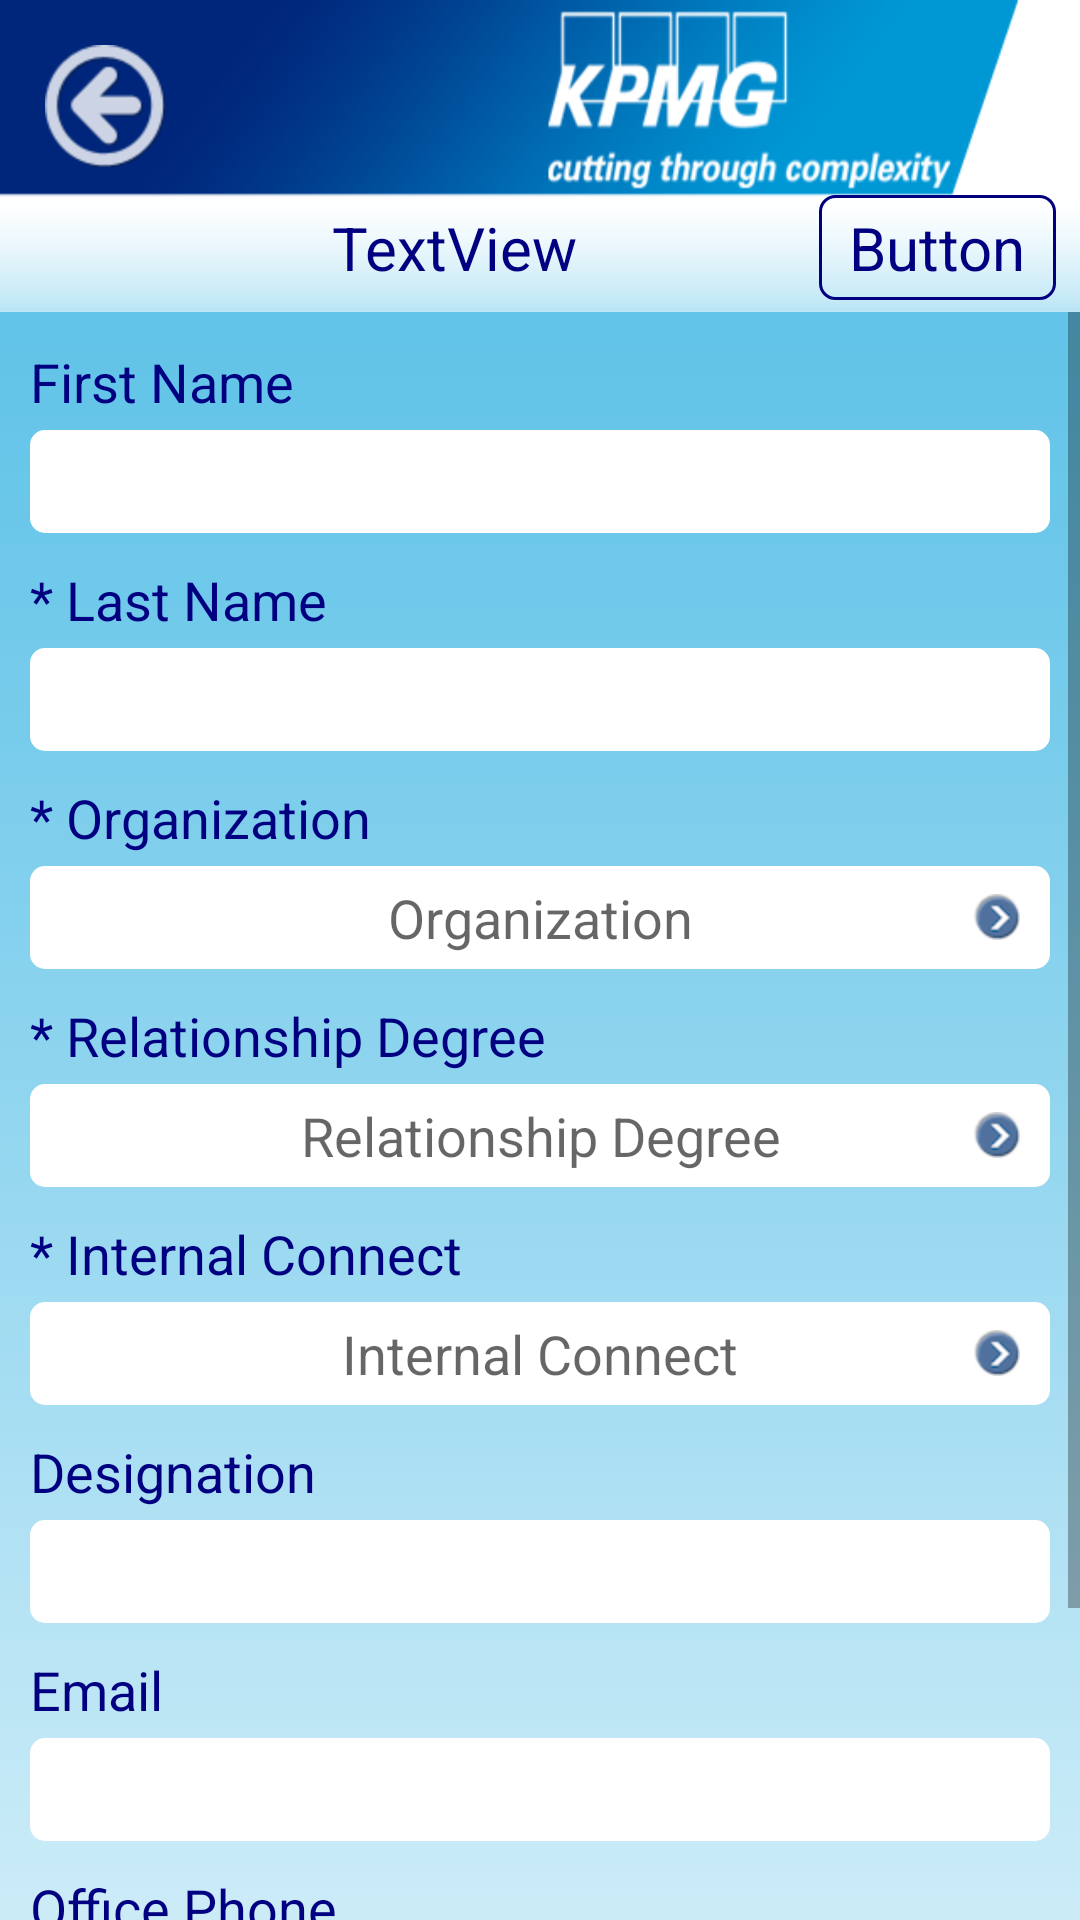

Locate icon controls on the screen. Image size 1080 x 1920, boxes as (x1, y1, x2, y2).
back: (45, 45, 165, 167)
